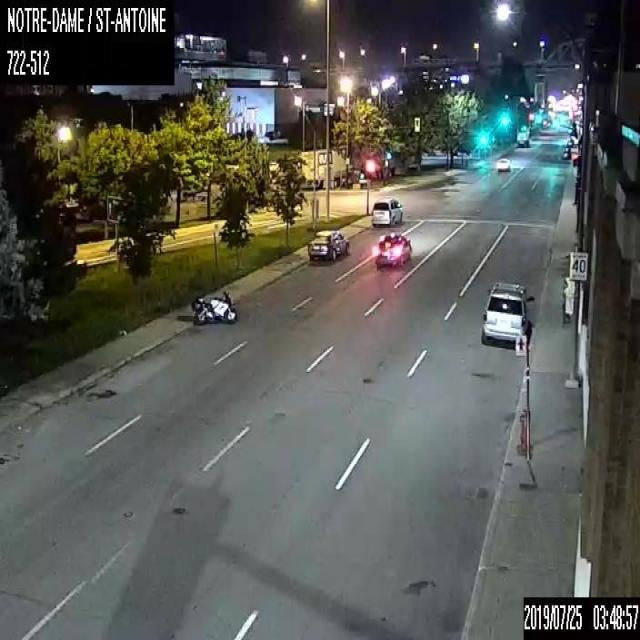vehicle: (480, 279, 533, 348), (190, 287, 238, 325), (305, 228, 350, 263), (374, 230, 412, 270), (370, 195, 404, 225), (515, 122, 530, 146), (494, 155, 511, 173)
